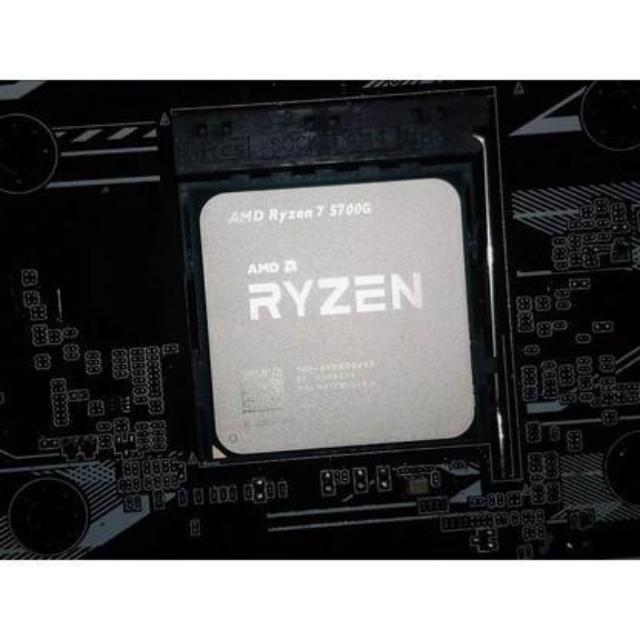CPU: (200, 190, 478, 450)
